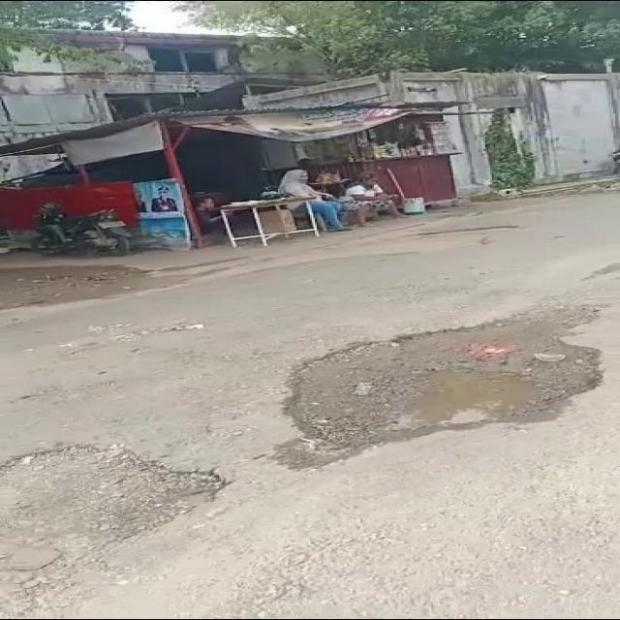lubang: (287, 308, 600, 456), (0, 445, 224, 615)
